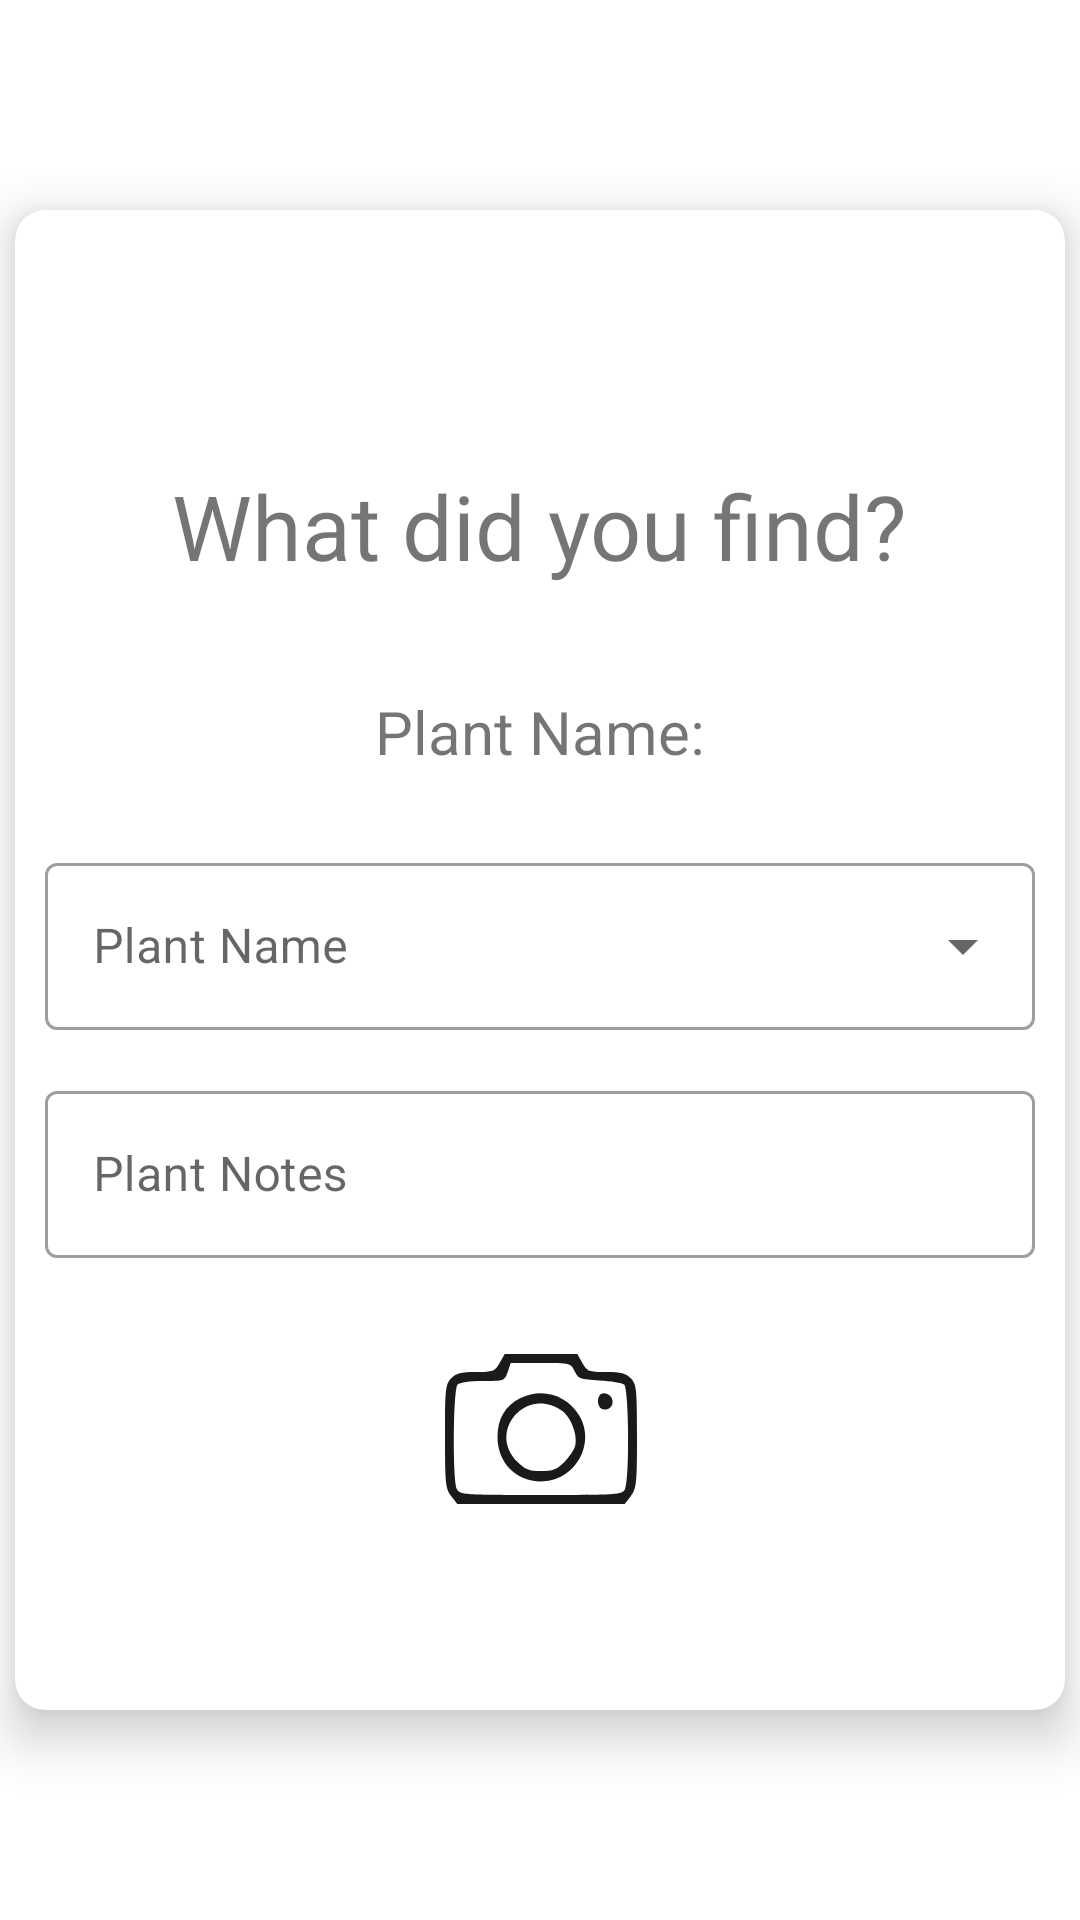

Named icons in this screenshot (1080 x 1920) and their bounding boxes, bbox=[x1, y1, x2, y2]:
camera: bbox=[445, 1354, 637, 1504]
